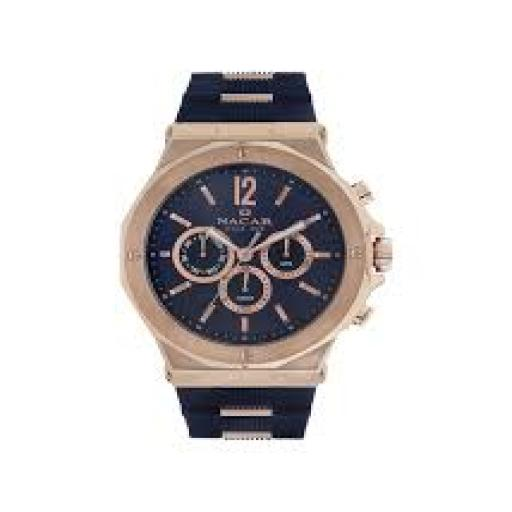KolSaati: (100, 36, 398, 468)
